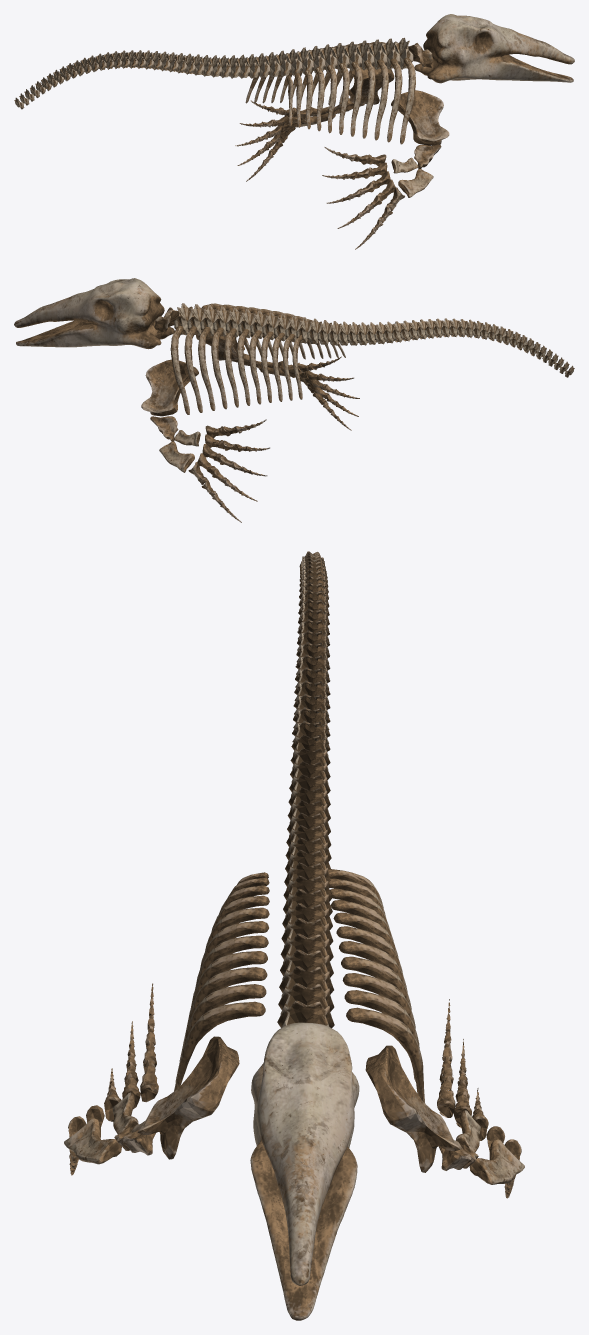
The model's file is WhaleSkeleton.glb.
3 views of the same model, one above another, from view 1: azimuth 30°, elevation 25°; view 2: azimuth 150°, elevation 25°; view 3: azimuth 270°, elevation 25° (orthographic). The views are drawn at different scales.
Visible parts, largest first — view 1: Spine.002, Whale head, Ribs, Finger.001, Shoulder, Finger.001__0.001, Spine.002__0.001, Arm, Collar, Arm.001, Spine.001; view 2: Spine.002, Whale head, Ribs, Finger.001, Shoulder, Finger.001__0.001, Spine.002__0.001, Arm, Collar, Arm.001, Spine.001; view 3: Whale head, Ribs, Spine.002, Shoulder, Finger.001, Spine.002__0.001, Arm, Finger.001__0.001, Arm.001, Collar.
Boxes of the visible parts, <box> form: Spine.002: <box>14,37,413,109</box>; Whale head: <box>414,14,574,83</box>; Ribs: <box>245,42,415,144</box>; Finger.001: <box>238,105,404,249</box>; Shoulder: <box>348,67,449,145</box>; Finger.001__0.001: <box>235,100,404,236</box>; Spine.002__0.001: <box>40,50,199,93</box>; Arm: <box>296,113,433,197</box>; Collar: <box>332,98,441,168</box>; Arm.001: <box>310,106,418,173</box>; Spine.001: <box>408,43,433,68</box>; Spine.002: <box>174,303,574,377</box>; Whale head: <box>14,278,174,349</box>; Ribs: <box>170,303,345,414</box>; Finger.001: <box>188,356,359,522</box>; Shoulder: <box>141,332,244,416</box>; Finger.001__0.001: <box>189,384,334,522</box>; Spine.002__0.001: <box>383,319,552,358</box>; Arm: <box>159,367,291,472</box>; Collar: <box>150,353,261,441</box>; Arm.001: <box>174,361,282,446</box>; Spine.001: <box>154,307,178,333</box>; Whale head: <box>250,1022,359,1320</box>; Ribs: <box>174,869,425,1103</box>; Spine.002: <box>277,551,334,1028</box>; Shoulder: <box>137,1036,460,1172</box>; Finger.001: <box>68,983,521,1198</box>; Spine.002__0.001: <box>292,552,330,751</box>; Arm: <box>64,1118,524,1184</box>; Finger.001__0.001: <box>68,999,521,1197</box>; Arm.001: <box>112,1092,480,1152</box>; Collar: <box>114,1120,478,1170</box>.
Size of the model in its own units: 17.04 by 6.15 by 6.13.
Materials: 1 (1 with a texture image).
